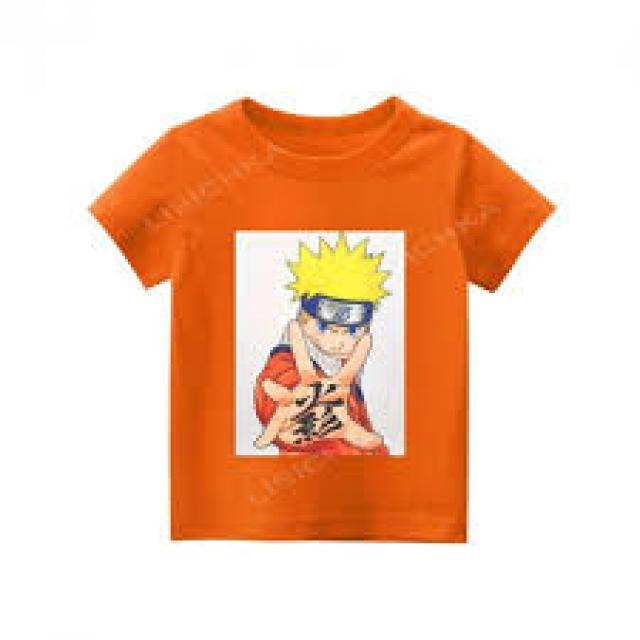Shirt: (59, 74, 559, 550)
